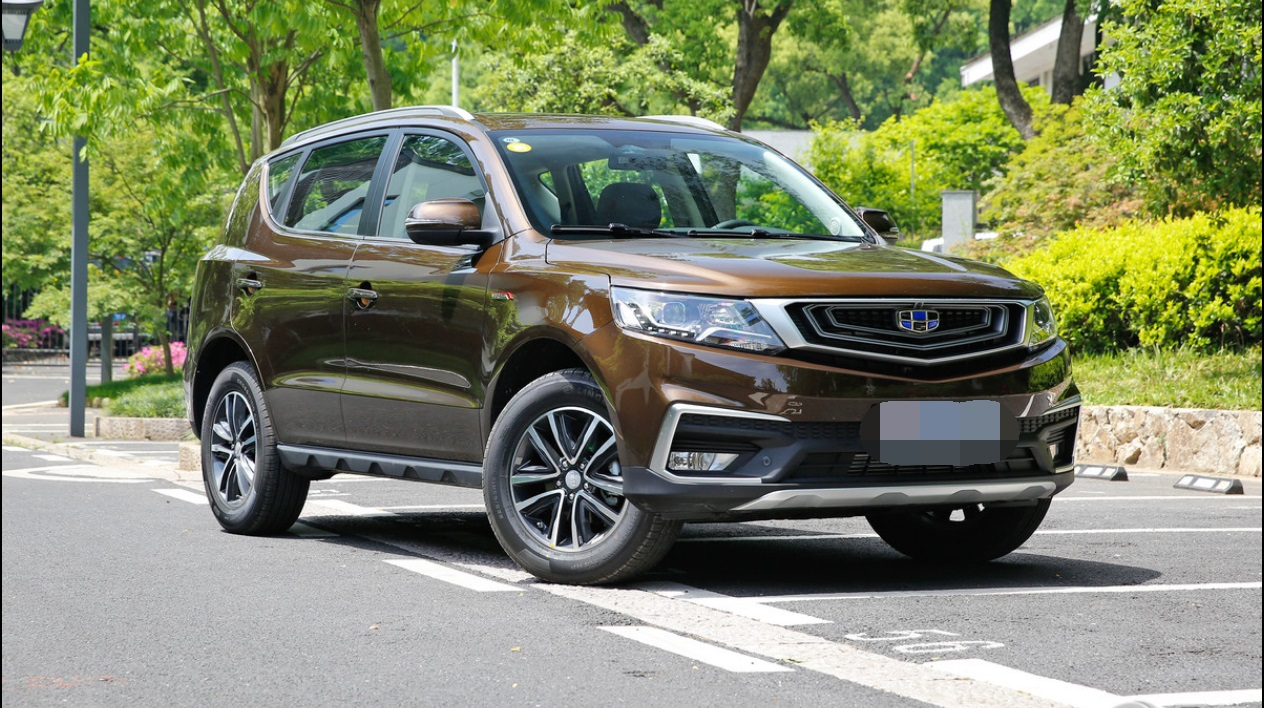SUV: (183, 100, 1083, 601)
